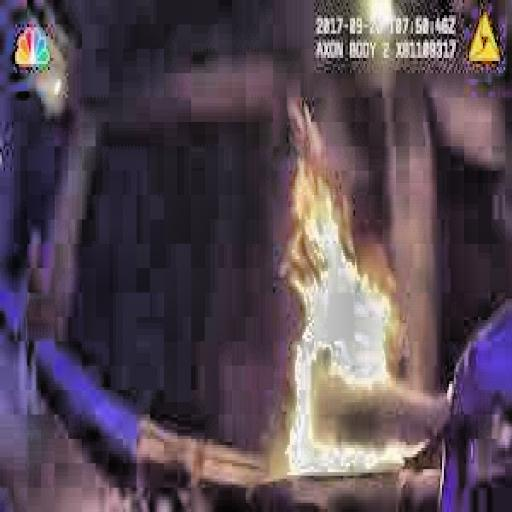fire: (256, 125, 428, 481)
